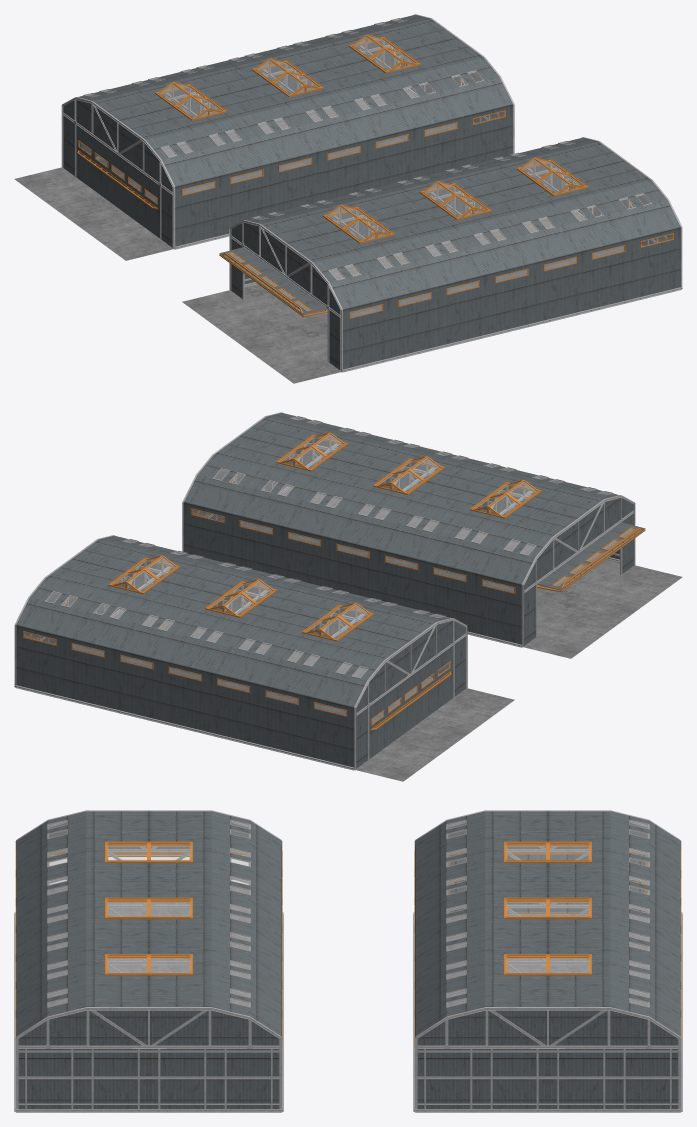
The model's file is Level.glb.
3 views of the same model, one above another, from view 1: azimuth 30°, elevation 25°; view 2: azimuth 150°, elevation 25°; view 3: azimuth 270°, elevation 25° (orthographic). The views are drawn at different scales.
Parts seen in each view (by area): view 1: Hangar_part_03 (×6), Hangar_part_02 (×6), Hangar_part_01, Hangar_part_05, Hangar_part_02_glass (×6), Floor (7), Floor (6), Floor (14), Floor (15), Hangar_part_04, Hangar_part_04 (1), Hangar_part_01_glass (+1 smaller); view 2: Hangar_part_03 (×6), Hangar_part_02 (×6), Hangar_part_01, Hangar_part_05, Hangar_part_02_glass (×6), Floor (6), Floor (7), Floor (15), Floor (14), Hangar_part_04 (1), Hangar_part_04, Hangar_part_01_glass (+1 smaller); view 3: Hangar_part_03 (×6), Hangar_part_02 (×6), Hangar_part_04, Hangar_part_04 (1), Hangar_part_01, Hangar_part_02_glass (×6), Hangar_part_05, Floor (5), Floor (13), Floor (4), Floor (12), Floor (6) (+1 smaller).
Boxes of the visible parts, box(x1,y1,x2,y2) form: Hangar_part_03 (×6): box(161, 15, 681, 348); Hangar_part_02 (×6): box(125, 26, 633, 360); Hangar_part_01: box(61, 85, 223, 249); Hangar_part_05: box(219, 208, 391, 372); Hangar_part_02_glass (×6): box(134, 30, 602, 267); Floor (7): box(182, 284, 327, 342); Floor (6): box(238, 321, 341, 383); Floor (14): box(14, 159, 156, 219); Floor (15): box(70, 199, 173, 260); Hangar_part_04: box(569, 137, 682, 288); Hangar_part_04 (1): box(401, 14, 514, 153); Hangar_part_01_glass: box(79, 90, 214, 202); Hangar_part_03 (×6): box(15, 413, 535, 746); Hangar_part_02 (×6): box(63, 424, 571, 758); Hangar_part_01: box(305, 606, 467, 770); Hangar_part_05: box(473, 483, 645, 647); Hangar_part_02_glass (×6): box(72, 428, 562, 703); Floor (6): box(537, 559, 682, 617); Floor (7): box(523, 596, 626, 658); Floor (15): box(372, 679, 514, 740); Floor (14): box(355, 719, 458, 781); Hangar_part_04 (1): box(14, 535, 127, 686); Hangar_part_04: box(182, 412, 295, 551); Hangar_part_01_glass: box(315, 610, 449, 723); Hangar_part_03 (×6): box(14, 867, 682, 1111); Hangar_part_02 (×6): box(14, 839, 682, 1082); Hangar_part_04: box(15, 1007, 282, 1112); Hangar_part_04 (1): box(414, 1007, 681, 1112); Hangar_part_01: box(413, 810, 682, 942); Hangar_part_02_glass (×6): box(48, 845, 648, 978); Hangar_part_05: box(14, 810, 283, 942); Floor (5): box(49, 943, 146, 996); Floor (13): box(550, 943, 647, 996); Floor (4): box(151, 943, 248, 996); Floor (12): box(448, 943, 545, 996); Floor (6): box(49, 887, 146, 940).
Size of the model in its own units: 40.18 by 9.38 by 50.31.
Materials: 4 (4 with a texture image).
